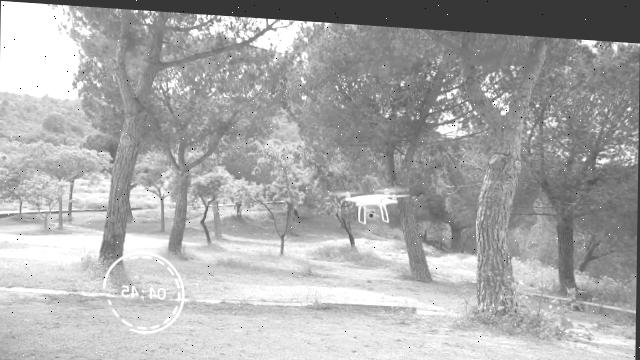drone: (329, 175, 411, 222)
